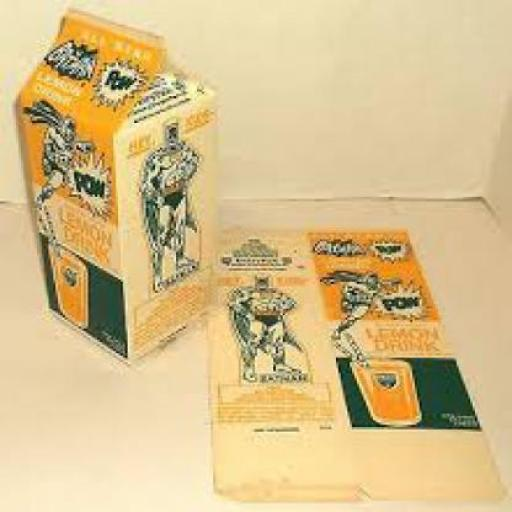cardboard: (206, 223, 503, 503), (13, 7, 213, 362)
